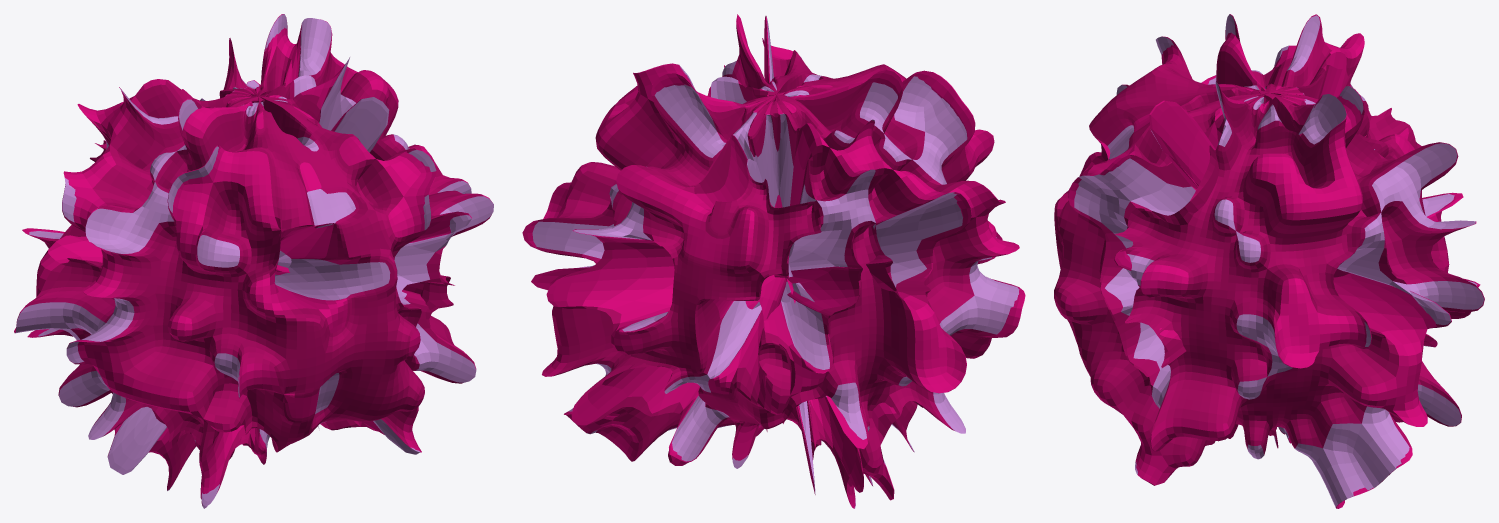
File: planetapinkpromise.fbx
3 views of the same model, side by side, from view 1: azimuth 30°, elevation 25°; view 2: azimuth 150°, elevation 25°; view 3: azimuth 270°, elevation 25° (orthographic). The views are drawn at different scales.
Parts seen in each view (by area): view 1: Sphere; view 2: Sphere; view 3: Sphere.
Part boxes in pixels (box(x1,y1,x2,y2)): Sphere: box(14, 14, 493, 508); Sphere: box(522, 14, 1025, 508); Sphere: box(1054, 14, 1484, 508).
Bounding box in the file's own units: 348 × 325 × 298.
